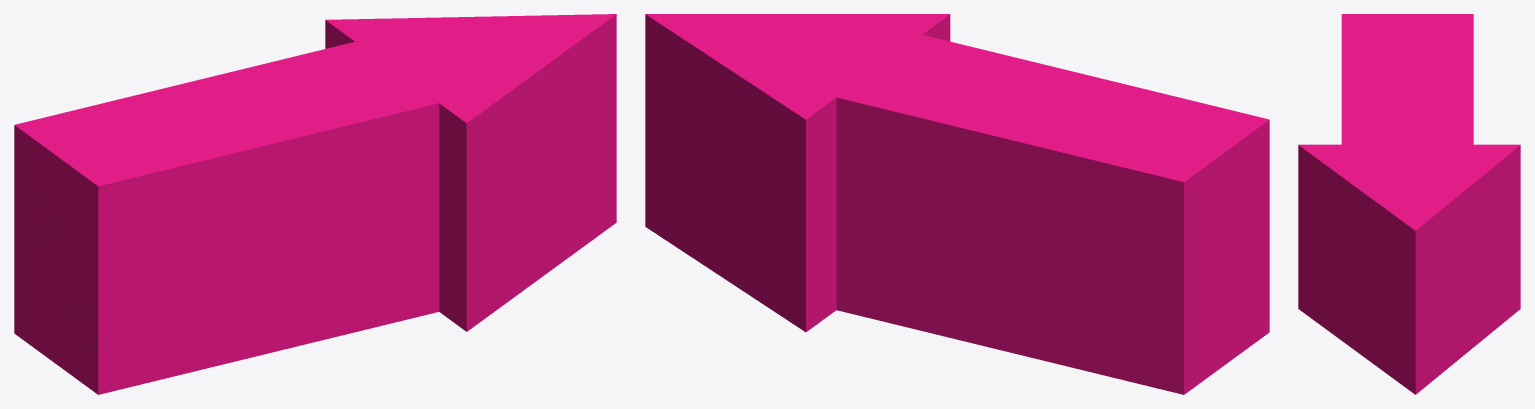
File: Figure.dae
The picture shows the model from 3 angles, left to right: view 1: azimuth 30°, elevation 25°; view 2: azimuth 150°, elevation 25°; view 3: azimuth 270°, elevation 25°; orthographic projection. The views are drawn at different scales.
Parts seen in each view (by area): view 1: SketchUp; view 2: SketchUp; view 3: SketchUp.
Boxes of the visible parts, box(x1,y1,x2,y2) form: SketchUp: box(14, 14, 616, 394); SketchUp: box(645, 14, 1269, 394); SketchUp: box(1298, 14, 1520, 394).
Size of the model in its own units: 112 by 48.43 by 39.37.
